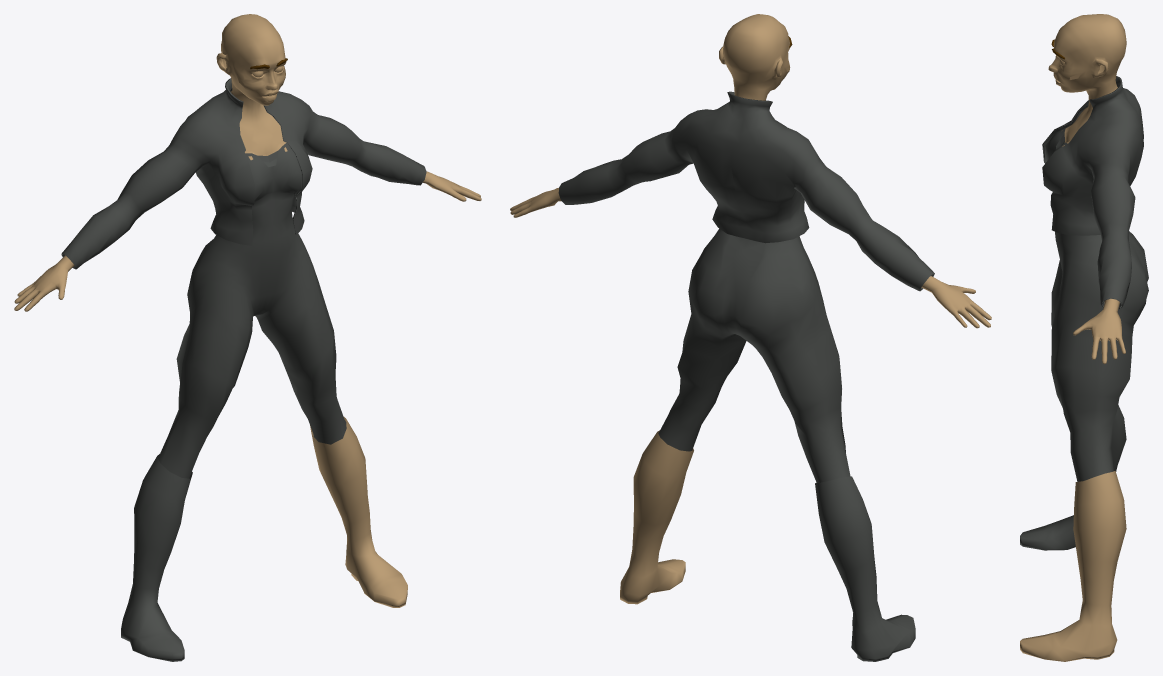
Rendered from Hero_UVs.obj.
The picture shows the model from 3 angles, left to right: view 1: azimuth 30°, elevation 25°; view 2: azimuth 150°, elevation 25°; view 3: azimuth 270°, elevation 25°; orthographic projection. The views are drawn at different scales.
Visible parts, largest first — view 1: Geometry Suit_Geo, Body1 Geometry, Geometry Jacket_Geo; view 2: Geometry Suit_Geo, Geometry Jacket_Geo, Body1 Geometry; view 3: Body1 Geometry, Geometry Suit_Geo, Geometry Jacket_Geo.
Boxes of the visible parts, <box> form: Geometry Suit_Geo: <box>158,143,346,478</box>; Body1 Geometry: <box>14,14,481,661</box>; Geometry Jacket_Geo: <box>61,78,426,269</box>; Geometry Suit_Geo: <box>658,228,850,482</box>; Geometry Jacket_Geo: <box>558,91,934,291</box>; Body1 Geometry: <box>510,14,991,661</box>; Body1 Geometry: <box>1020,14,1126,661</box>; Geometry Suit_Geo: <box>1045,123,1148,481</box>; Geometry Jacket_Geo: <box>1042,76,1143,309</box>.
Size of the model in its own units: 29.28 by 35.23 by 7.1.
